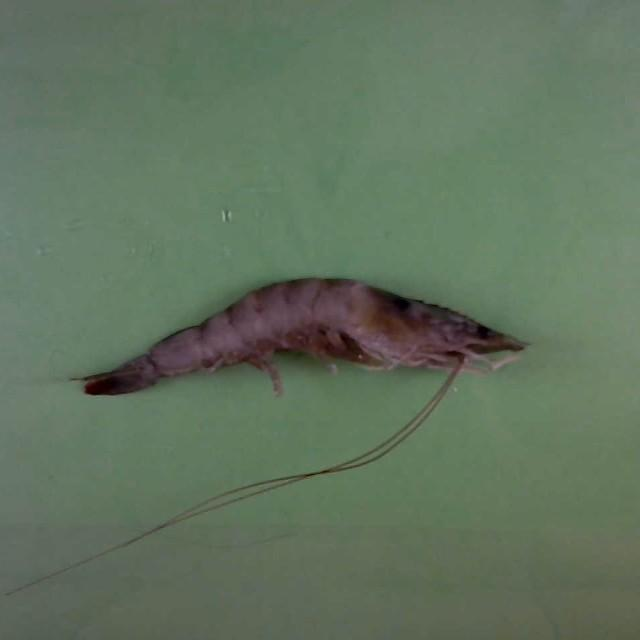shrimp: (84, 279, 526, 396)
